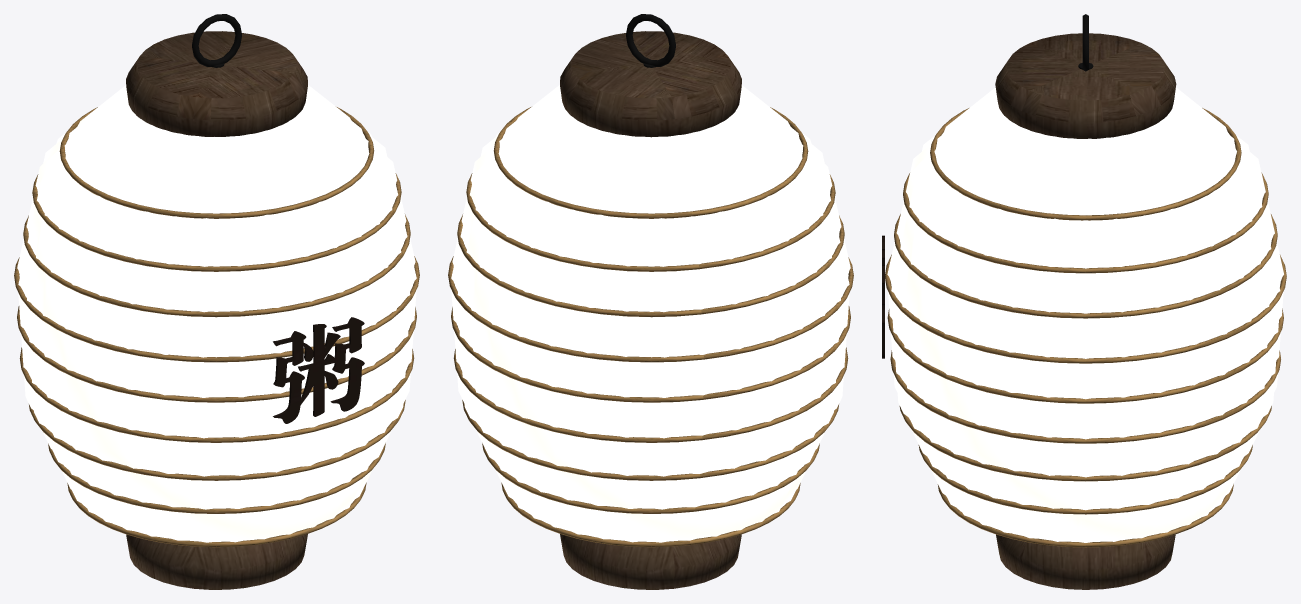
File: PROP_MorningWhite_DoorLamp_A.glb
3 renders of one model, left to right at view 1: azimuth 30°, elevation 25°; view 2: azimuth 150°, elevation 25°; view 3: azimuth 270°, elevation 25°, orthographic.
Parts seen in each view (by area): view 1: PROP_MorningWhite_DoorLamp_A; view 2: PROP_MorningWhite_DoorLamp_A; view 3: PROP_MorningWhite_DoorLamp_A.
Boxes of the visible parts, bbox=[...] form: PROP_MorningWhite_DoorLamp_A: bbox=[14, 14, 419, 589]; PROP_MorningWhite_DoorLamp_A: bbox=[448, 14, 853, 589]; PROP_MorningWhite_DoorLamp_A: bbox=[882, 14, 1286, 589].
Size of the model in its own units: 0.532 by 0.778 by 0.532.
5 materials, 5 textured.
